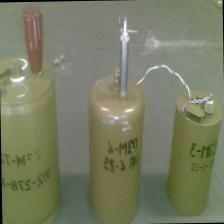OZM-72: (0, 44, 59, 224), (80, 68, 148, 224), (166, 86, 218, 222)
